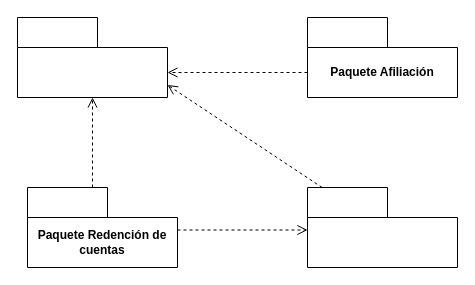
This 475x285 diagram has some shape labels left out. The shapes that lost their labels are listed below. From the top down, each one's centre as x and y in pixels, then its label:
At pixel 92 57: "Paquete Seguridad".
At pixel 382 227: "Paquete Proyectos".
